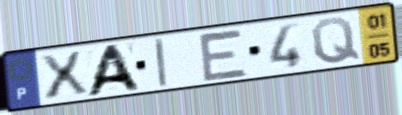4: (266, 21, 306, 71)
A: (82, 42, 144, 99)
E: (196, 28, 251, 84)
I: (152, 36, 171, 90)
Q: (309, 16, 363, 66)
X: (35, 49, 92, 102)
